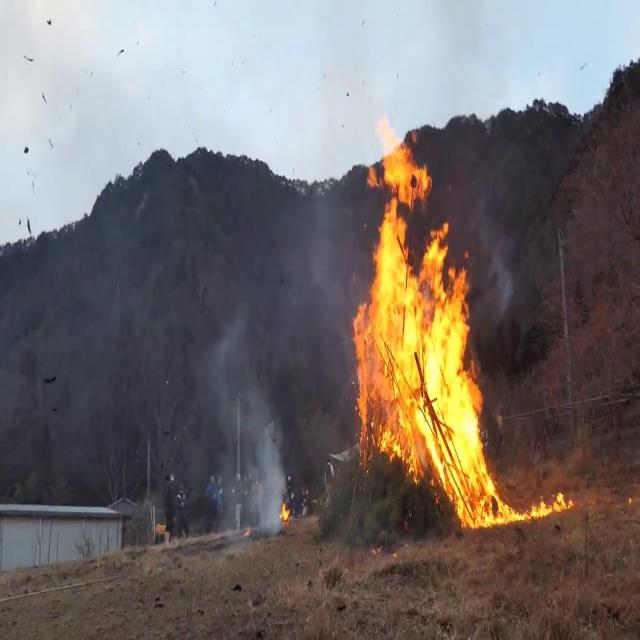Fire: (346, 133, 494, 528), (502, 481, 571, 523), (277, 495, 293, 531)
Smoke: (207, 316, 293, 510)
